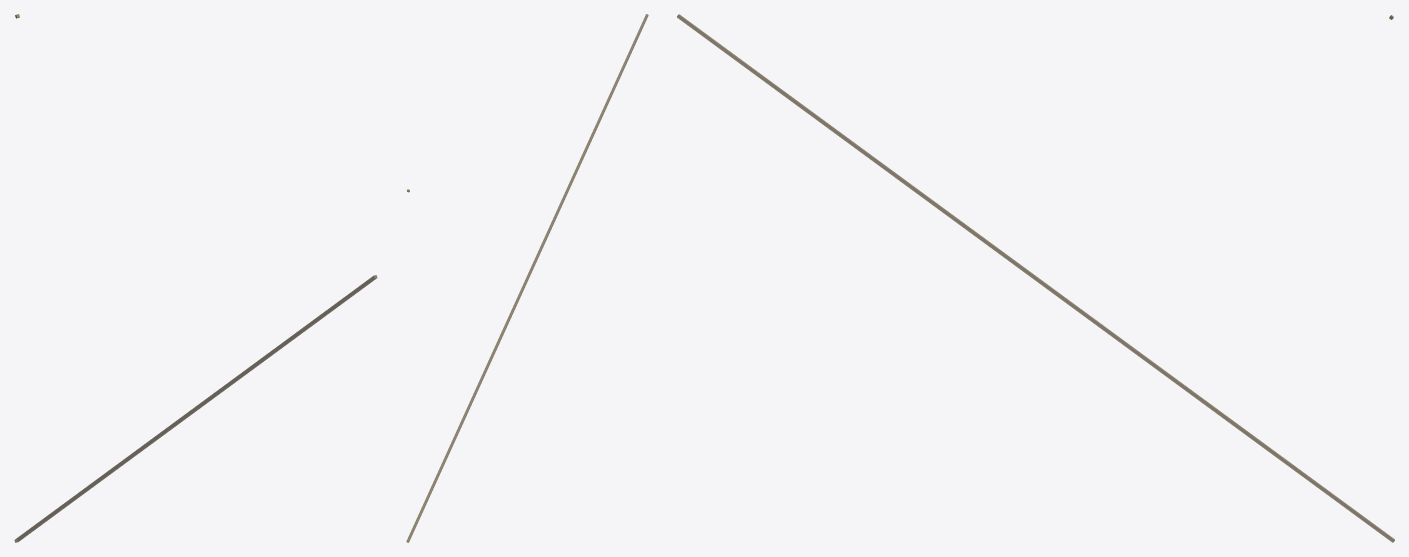
3 views of the same model, side by side, from view 1: azimuth 30°, elevation 25°; view 2: azimuth 150°, elevation 25°; view 3: azimuth 270°, elevation 25° (orthographic). The views are drawn at different scales.
Visible parts, largest first — view 1: QC North Shaft; view 2: QC North Shaft; view 3: QC North Shaft.
Part boxes in pixels (x1,y1,x2,y2): QC North Shaft: [14, 275, 377, 542]; QC North Shaft: [406, 14, 648, 542]; QC North Shaft: [677, 14, 1394, 542].
Bounding box in the file's own units: 0.21 × 37.92 × 46.76.
